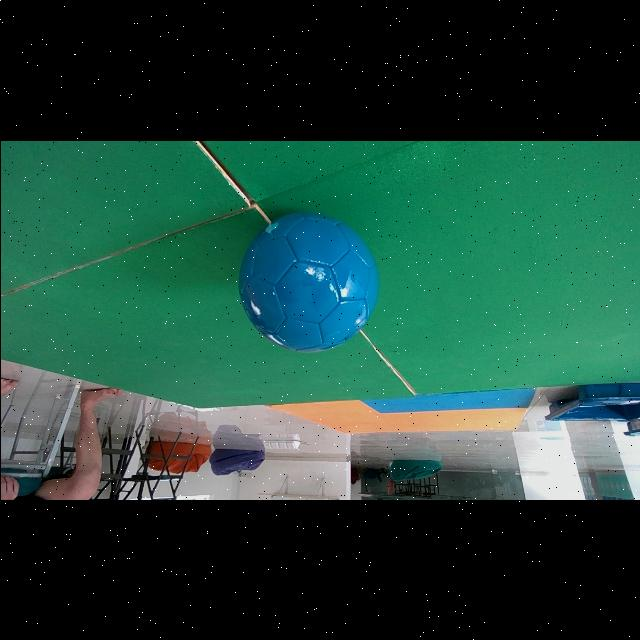B: (239, 212, 377, 351)
